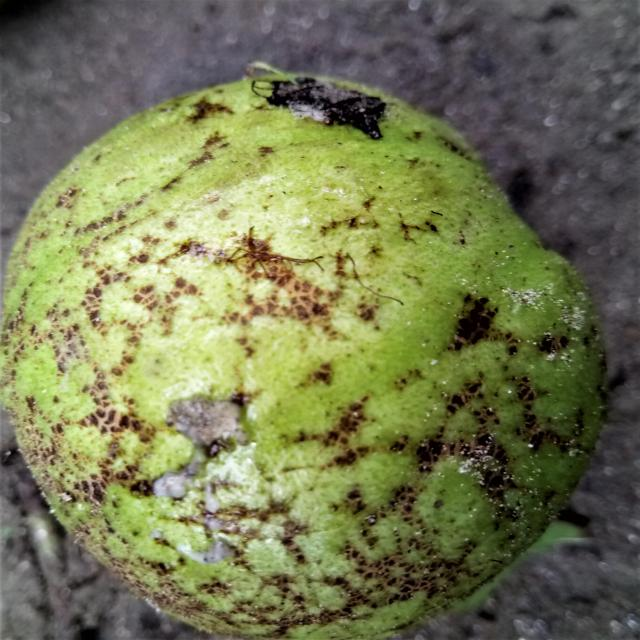Scab: (3, 74, 605, 640)
